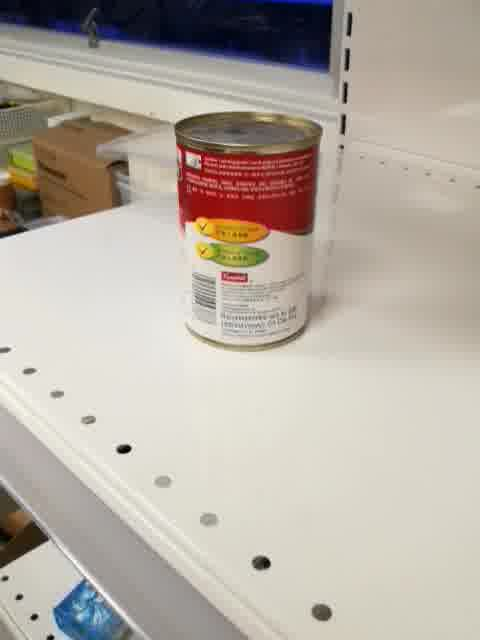tomatosoup: (173, 110, 324, 354)
